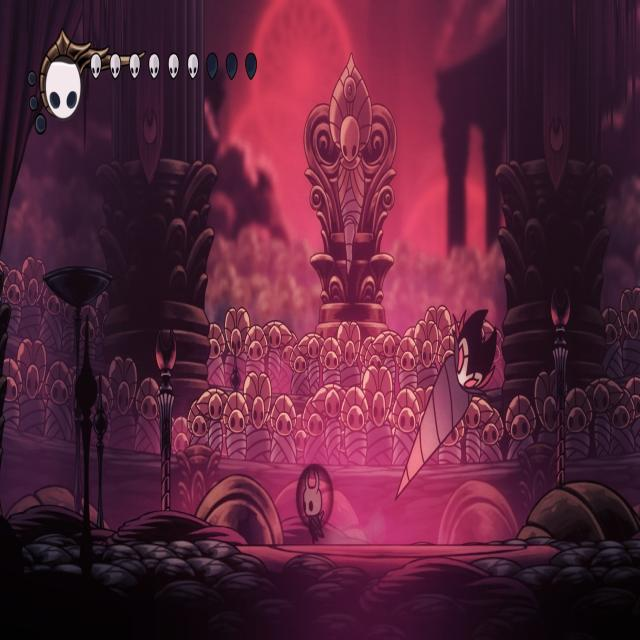Dive Dash: (394, 300, 499, 505)
Player: (294, 460, 334, 548)
